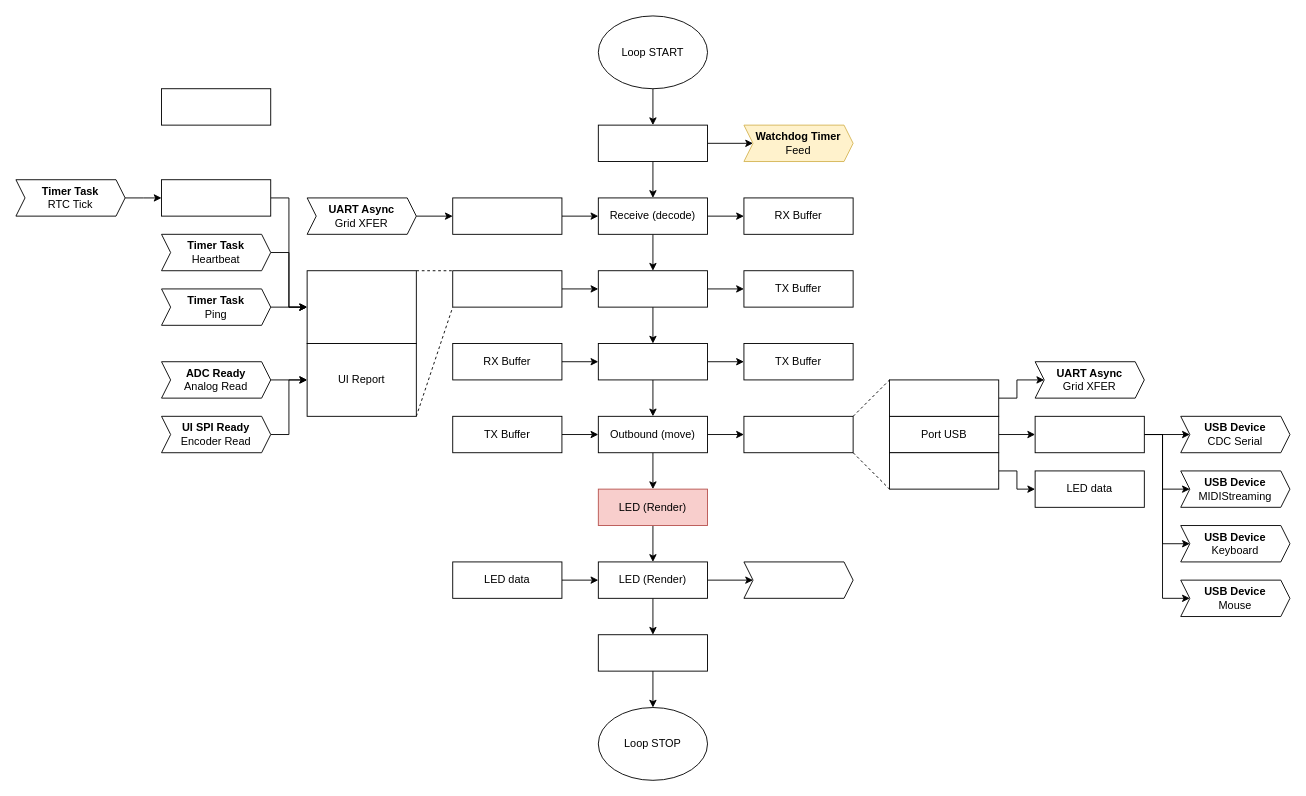
The diagram is 1306 pixels wide and 796 high, and some of its shapes have lost their labels. Each missing label, with the centre of its shape:
ENDPOINT XFER: [1089,434]
Housekeeping: [652,143]
Idle (Wait): [652,652]
Inbound (move): [652,361]
mapmode: [216,197]
Port Grid: [944,397]
Port UI: [944,470]
Report (encode): [652,288]
Report Descriptor: [507,288]
RX Double Buffer: [507,215]
SPI DMA Grid LED: [798,579]
Sys Report: [361,307]
TX Double Buffer: [798,434]
